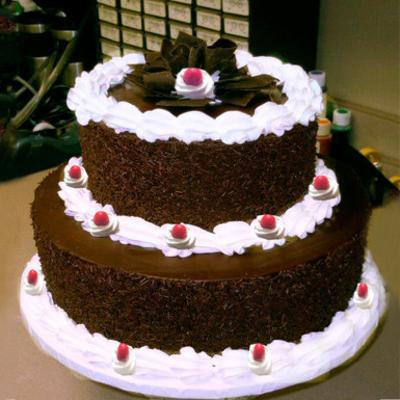cake: (28, 42, 373, 355)
